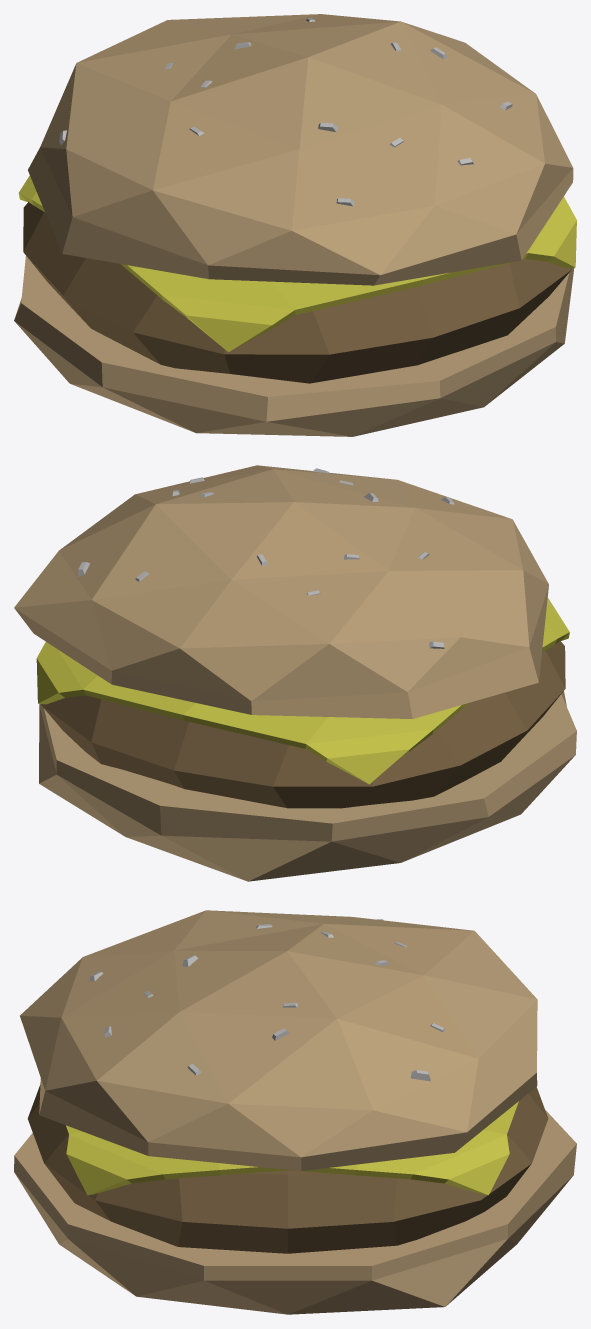
Rendered from Cheeseburger.glb.
3 views of the same model, one above another, from view 1: azimuth 30°, elevation 25°; view 2: azimuth 150°, elevation 25°; view 3: azimuth 270°, elevation 25° (orthographic). The views are drawn at different scales.
Visible parts, largest first — view 1: Cheeseburger; view 2: Cheeseburger; view 3: Cheeseburger.
Part boxes in pixels (box(x1,y1,x2,y2)): Cheeseburger: box(14, 14, 576, 436); Cheeseburger: box(14, 465, 576, 881); Cheeseburger: box(14, 910, 576, 1314).
Size of the model in its own units: 1.46 by 0.9382 by 1.54.
